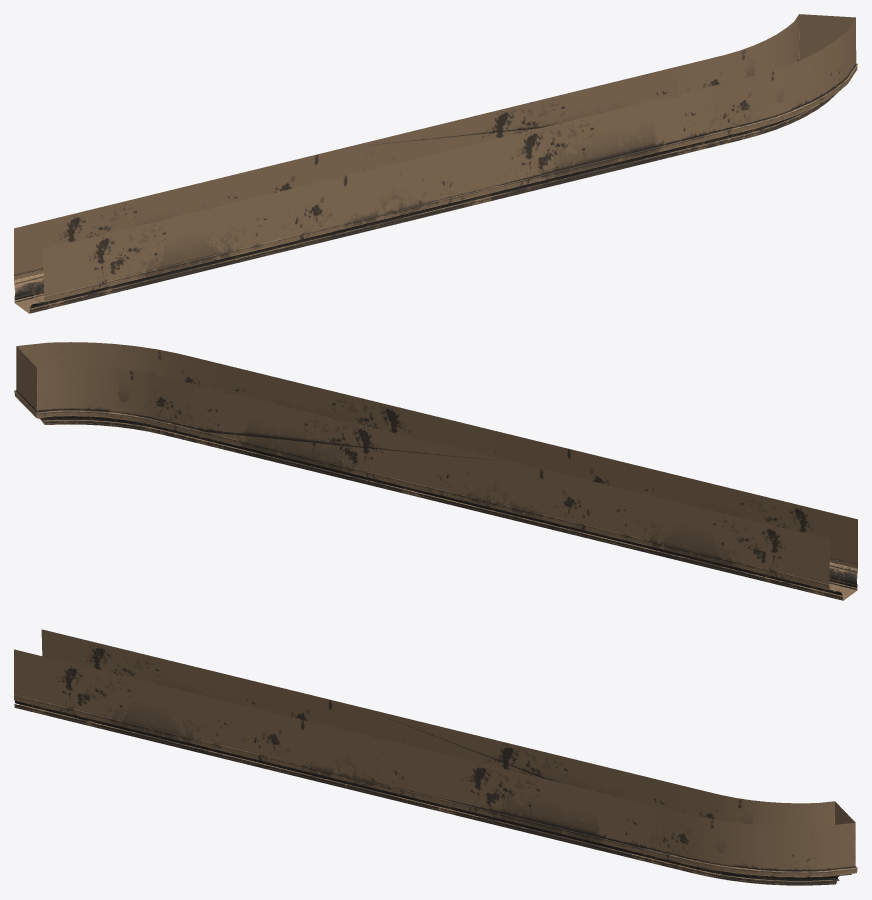
The model's file is Mod_Ceilling_BigMoulures_A.fbx.
The picture shows the model from 3 angles, top to bottom: view 1: azimuth 30°, elevation 25°; view 2: azimuth 150°, elevation 25°; view 3: azimuth 330°, elevation 25°; orthographic projection. The views are drawn at different scales.
Visible parts, largest first — view 1: Mod_Ceiling_BigMoulures_A_Low; view 2: Mod_Ceiling_BigMoulures_A_Low; view 3: Mod_Ceiling_BigMoulures_A_Low.
Part boxes in pixels (bbox=[...]): Mod_Ceiling_BigMoulures_A_Low: bbox=[14, 14, 857, 313]; Mod_Ceiling_BigMoulures_A_Low: bbox=[14, 342, 857, 600]; Mod_Ceiling_BigMoulures_A_Low: bbox=[14, 629, 857, 885].
Size of the model in its own units: 5406 by 410 by 590.
1 material, 1 textured.
